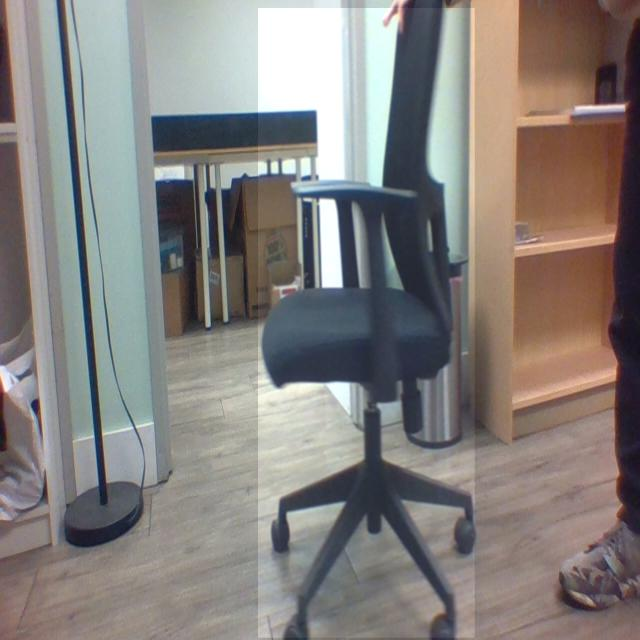black-chair: (258, 8, 476, 639)
